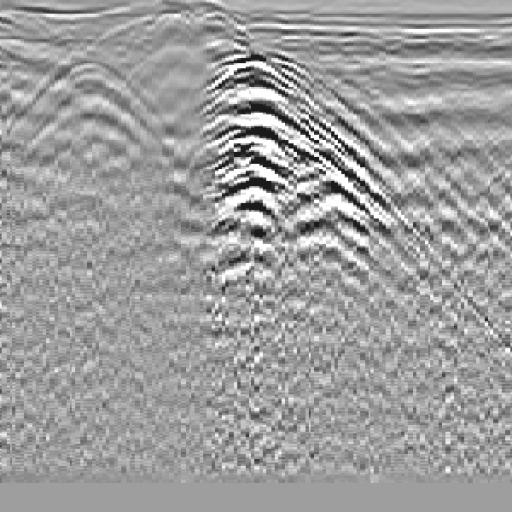metalic: (251, 109, 496, 368), (163, 51, 333, 377)
